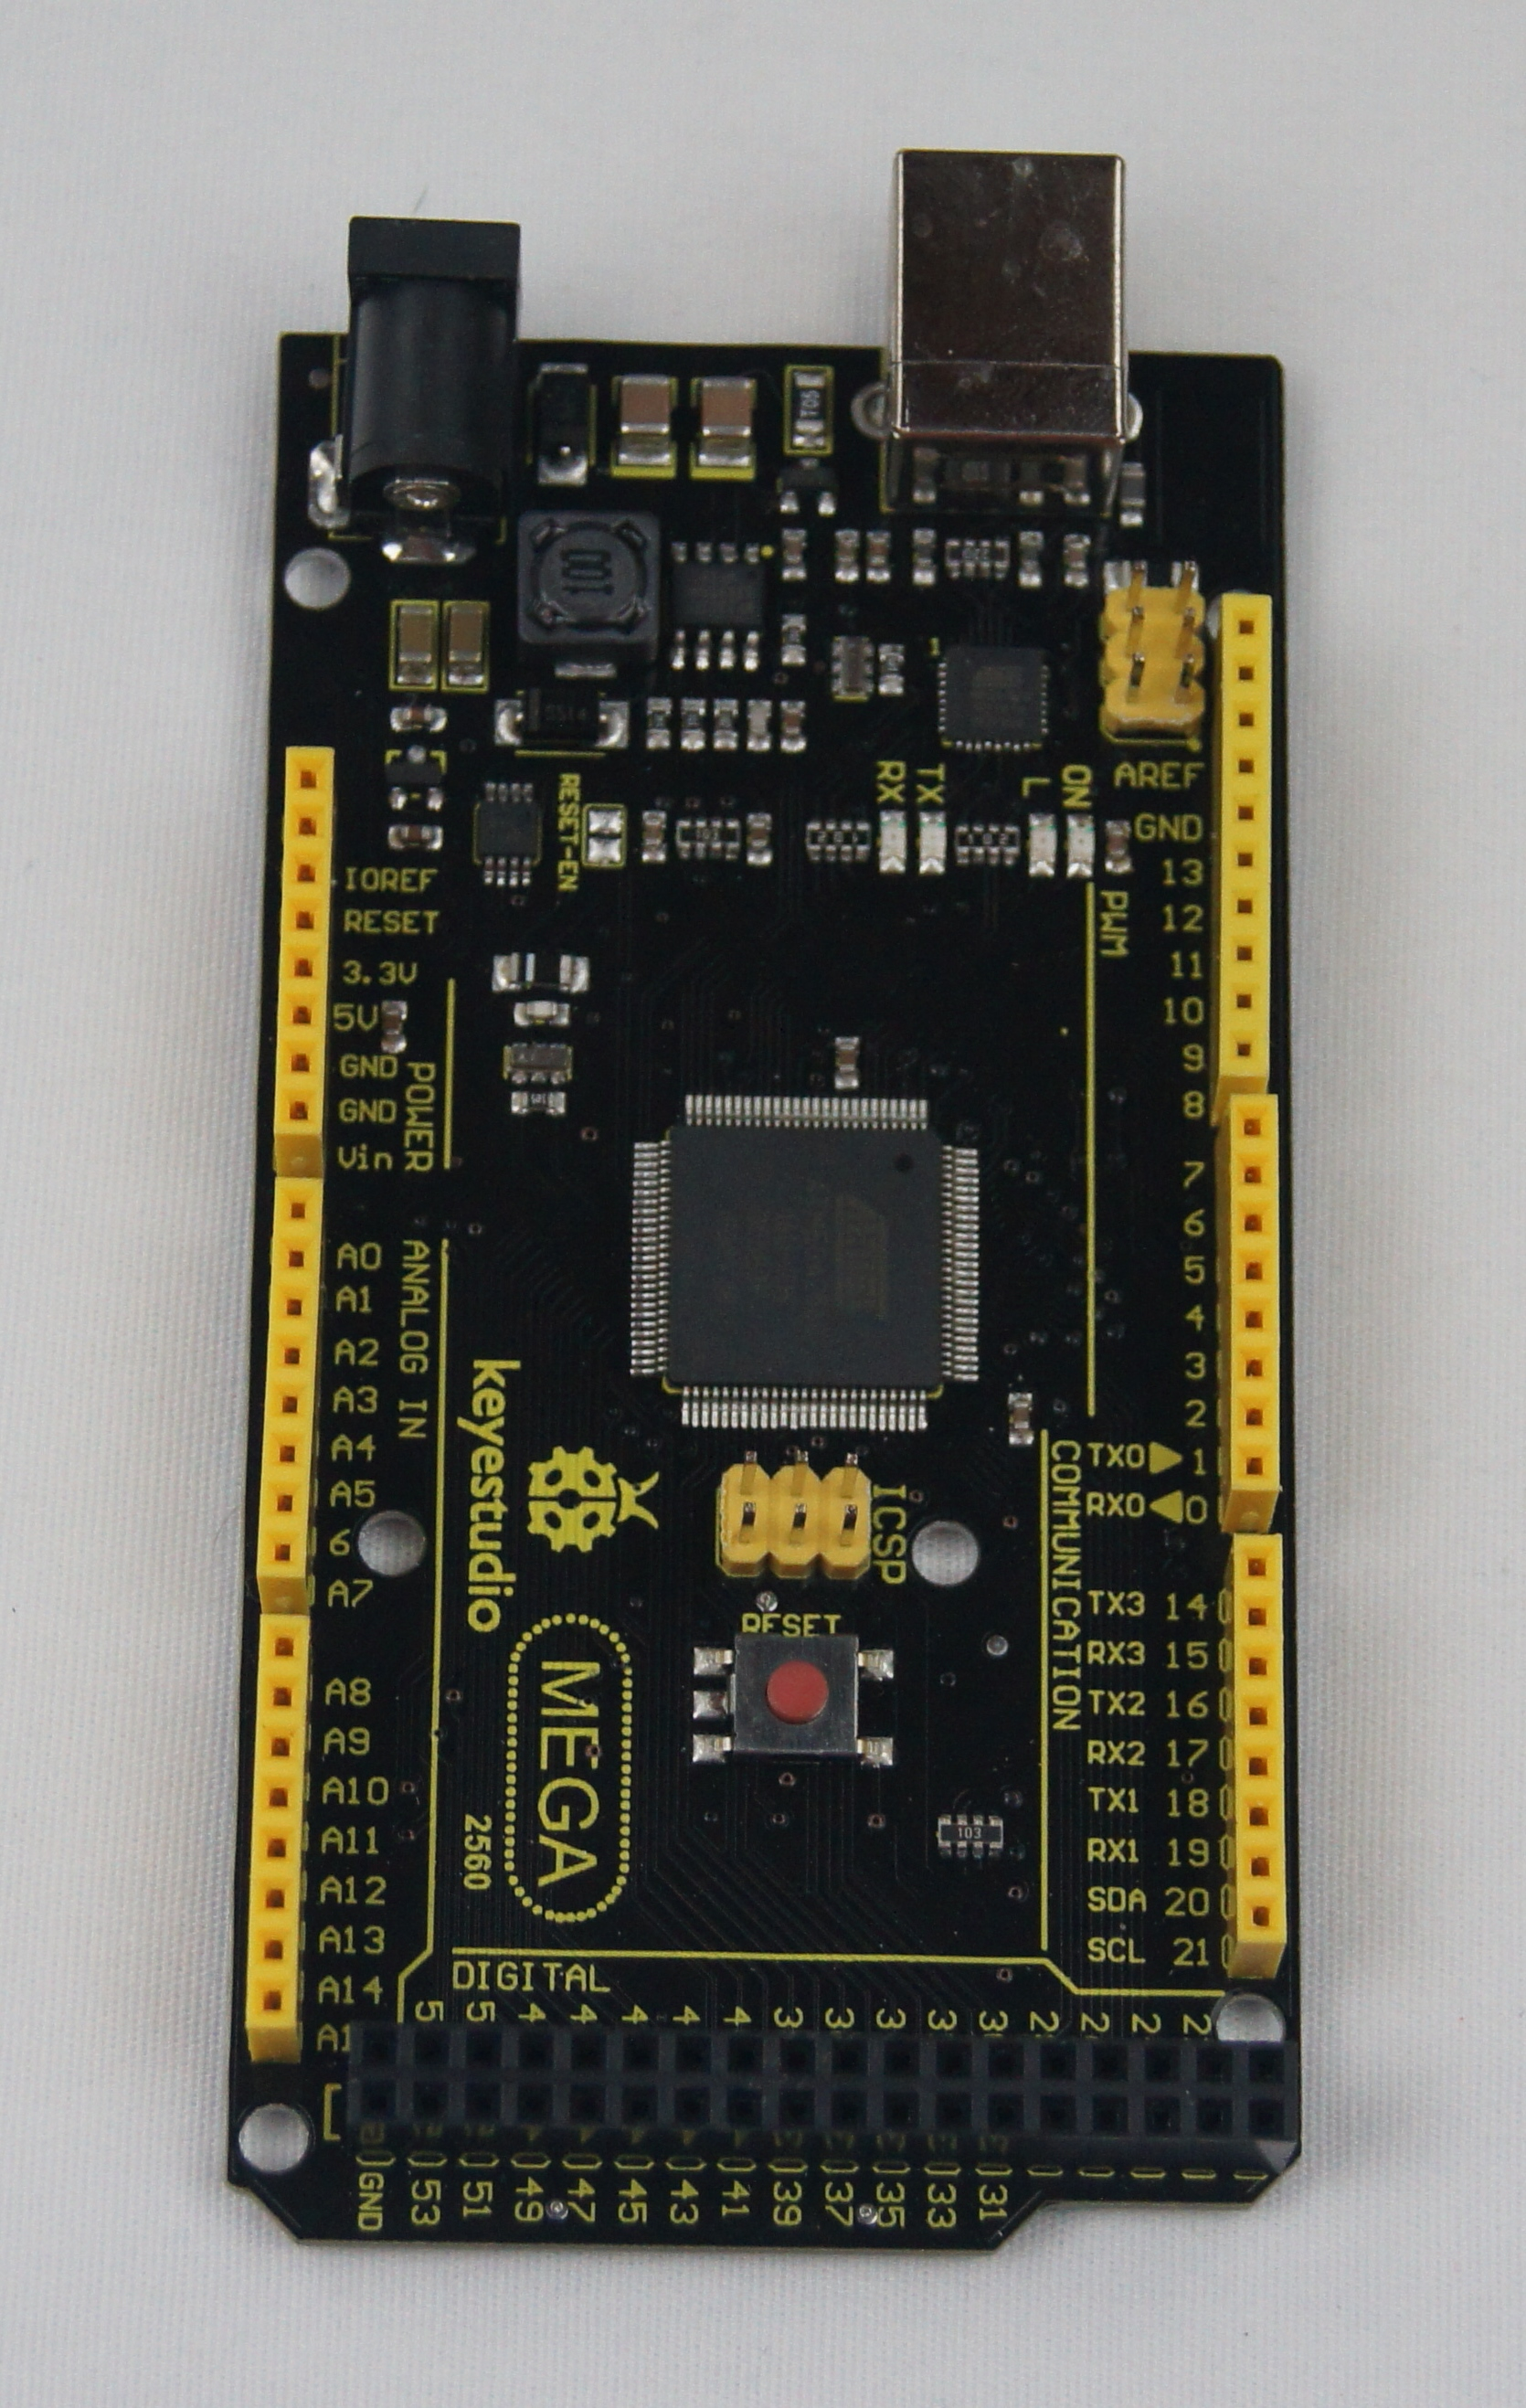connector: (342, 2015, 1300, 2161), (342, 202, 524, 558), (1212, 1083, 1289, 1504), (1212, 584, 1277, 1085), (1221, 1520, 1294, 1959), (246, 1606, 316, 2039), (256, 1169, 328, 1588), (268, 732, 335, 1153), (712, 1448, 877, 1578), (1105, 560, 1205, 744)
